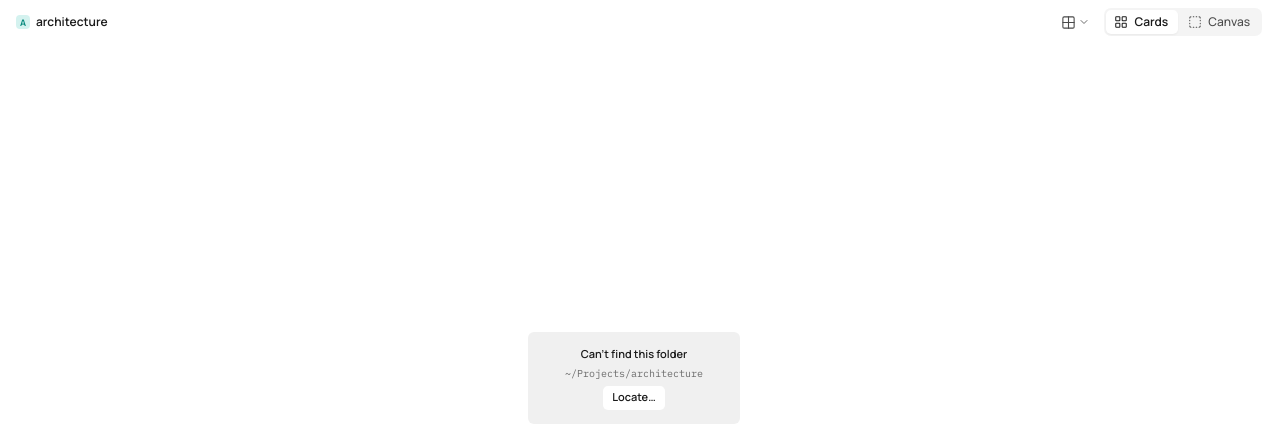
Test: Home assembly (#220 D1·D4·D12·D16, T29) › Cards, a project not found — the board's box centred under the header, no cards (#253 R7, Library-Missing)
Expected: the heading shows "architecture", [36,13,108,30]
Click the button "Locate…" at (634, 398), box [603,386,665,410]
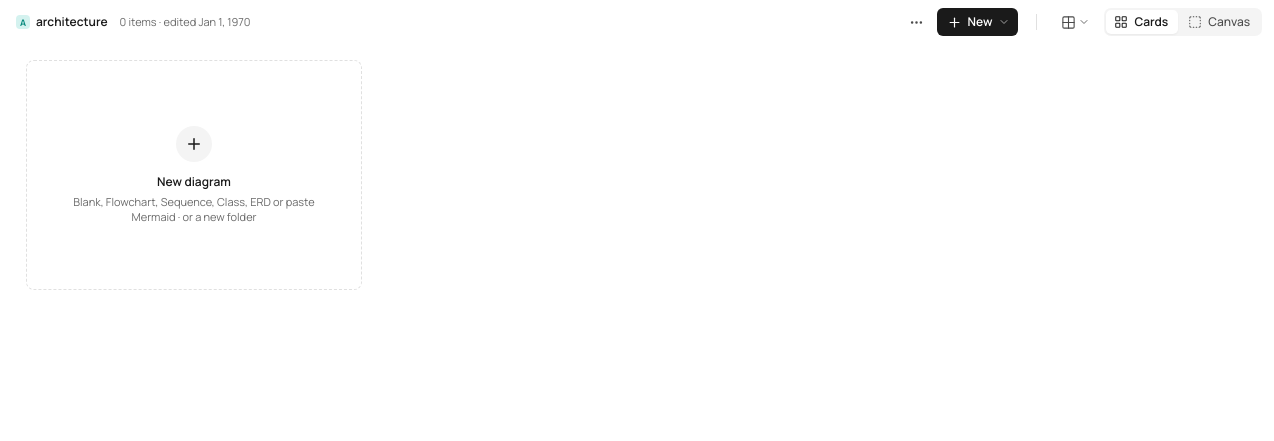
Expected: the text "Can't find this folder" is gone
